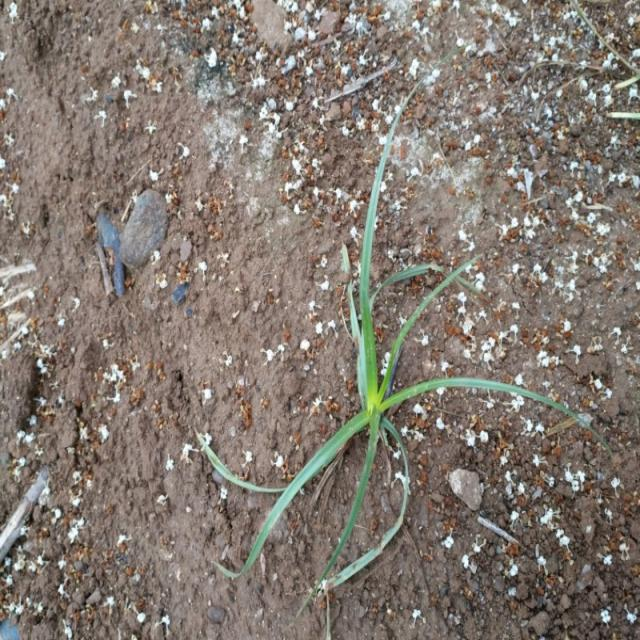sedge: (235, 152, 558, 566)
